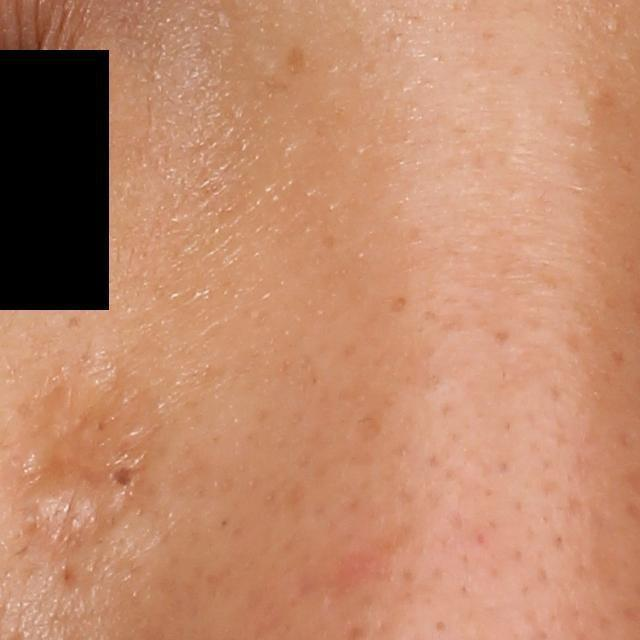comedo: (597, 16, 622, 42)
other: (1, 358, 172, 563)
